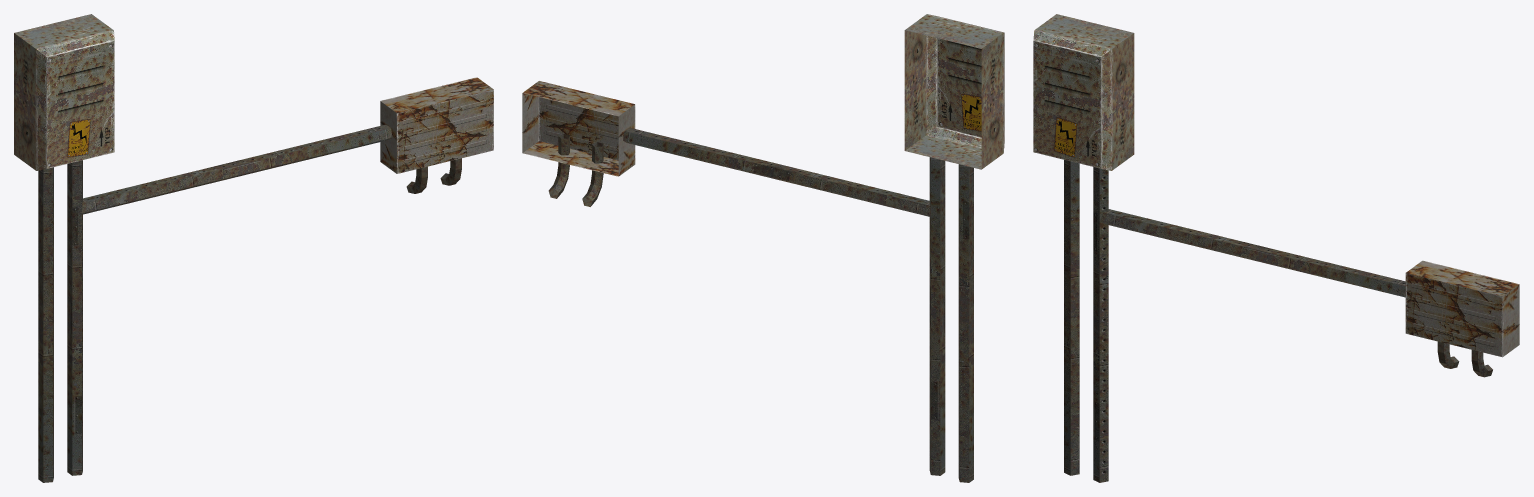
File: electr3.fbx
3 renders of one model, left to right at view 1: azimuth 30°, elevation 25°; view 2: azimuth 150°, elevation 25°; view 3: azimuth 330°, elevation 25°, orthographic.
Parts seen in each view (by area): view 1: electr3_Layer1; view 2: electr3_Layer1; view 3: electr3_Layer1.
Part boxes in pixels (bbox=[...]): electr3_Layer1: bbox=[14, 14, 493, 482]; electr3_Layer1: bbox=[522, 14, 1004, 482]; electr3_Layer1: bbox=[1033, 14, 1519, 482].
Bounding box in the file's own units: 191 × 176 × 20.
1 material, 1 textured.
